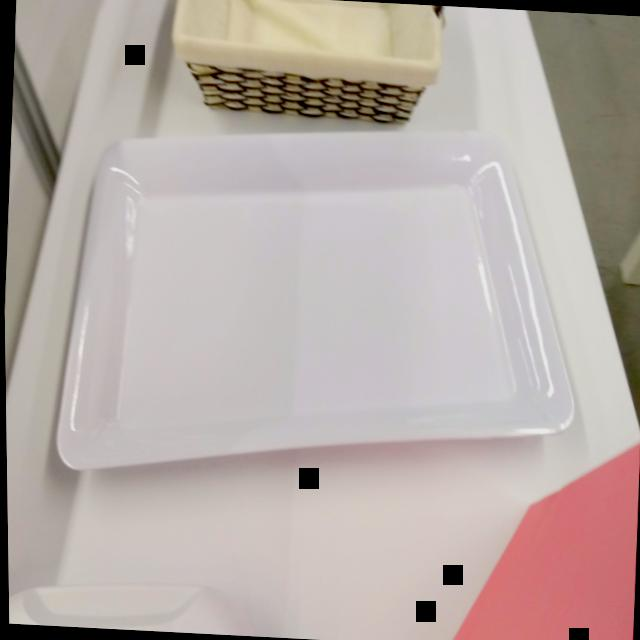tray: (36, 113, 591, 507)
